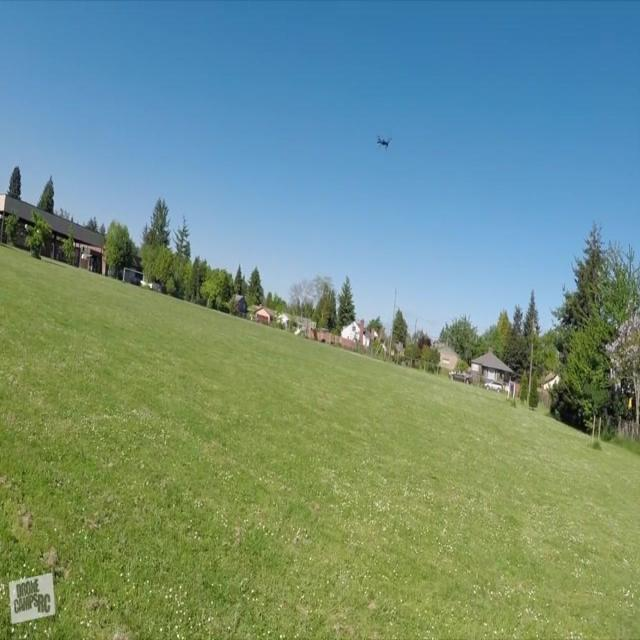drone: (376, 131, 392, 156)
